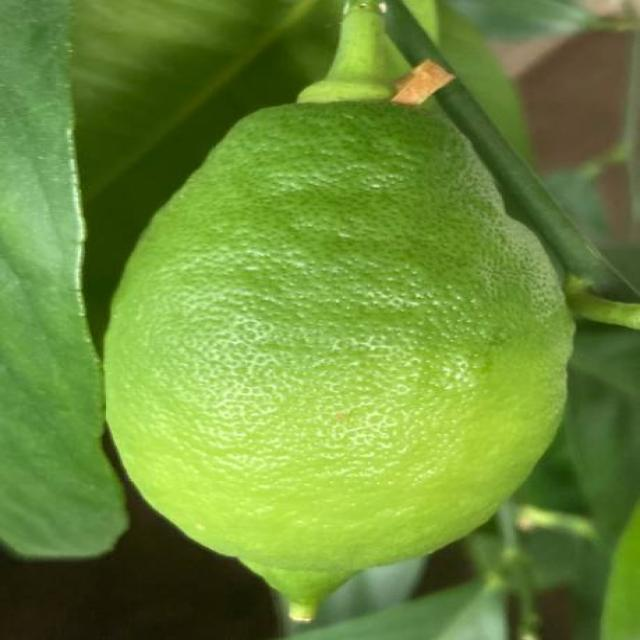Lemon: (107, 94, 576, 619)
